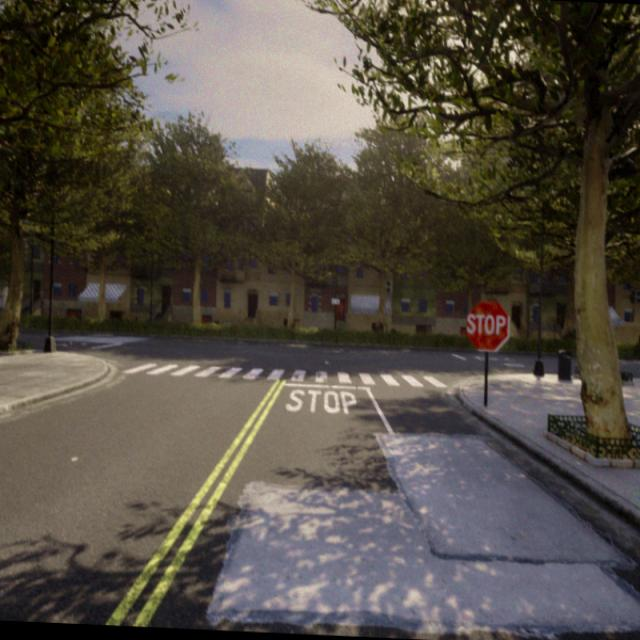stop sign: (463, 297, 511, 354), (466, 310, 507, 337)
